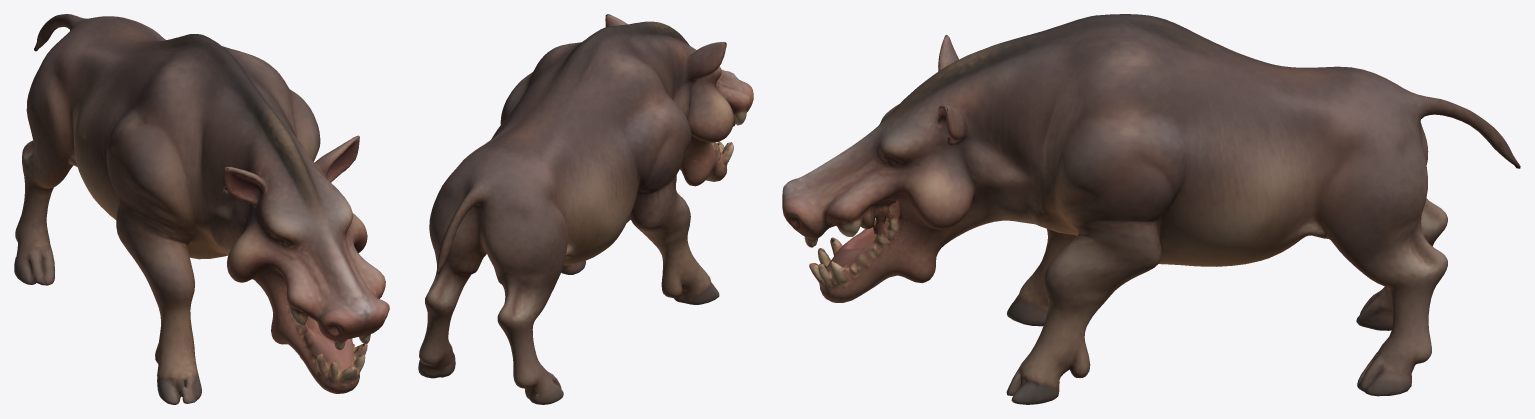
3 views of the same model, side by side, from view 1: azimuth 30°, elevation 25°; view 2: azimuth 150°, elevation 25°; view 3: azimuth 270°, elevation 25° (orthographic). The views are drawn at different scales.
Parts seen in each view (by area): view 1: world; view 2: world; view 3: world.
Part boxes in pixels (x1,y1,x2,y2): world: (14, 14, 389, 404); world: (418, 14, 753, 404); world: (782, 14, 1520, 404).
Bounding box in the file's own units: 1.01 × 1.58 × 3.1.
Materials: 1 (1 with a texture image).
